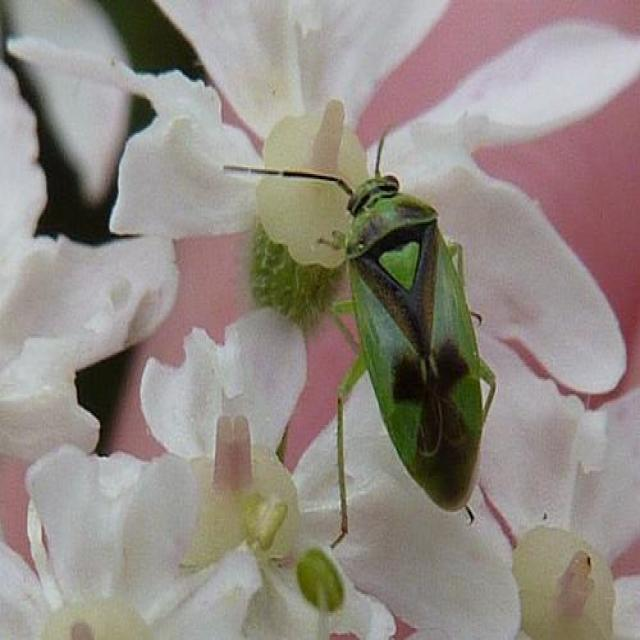Miridae-Adult-: (223, 108, 509, 530)
